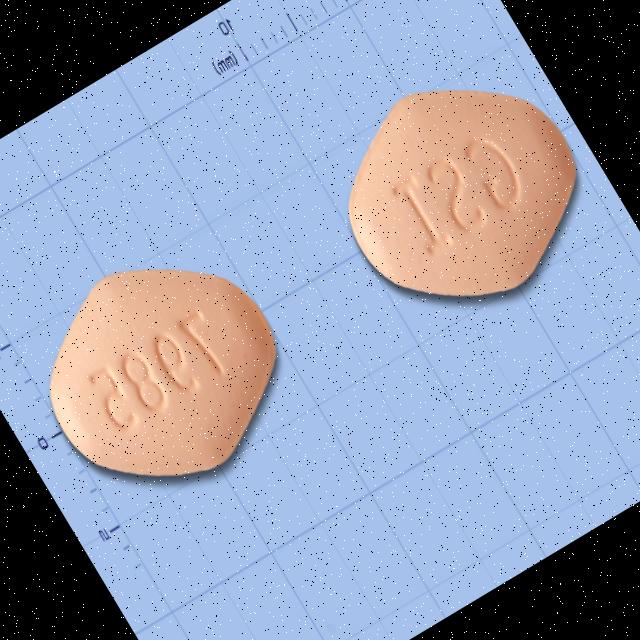Harvoni: (5, 215, 319, 526), (304, 37, 618, 347)
